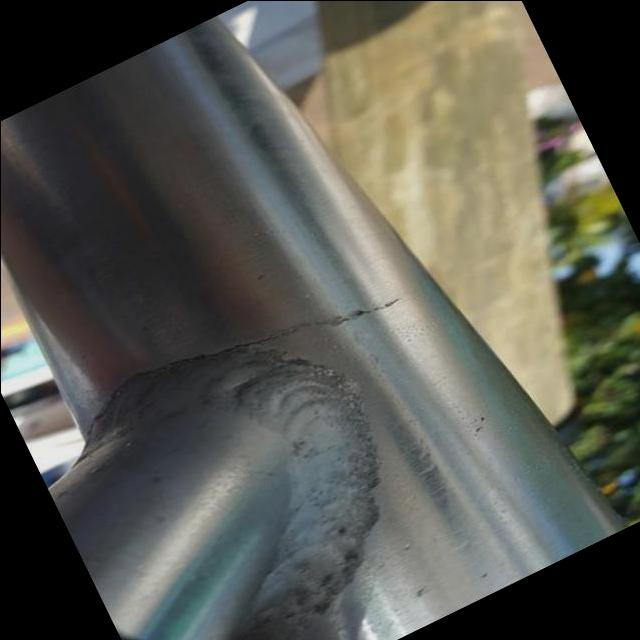defect: (74, 289, 410, 438)
